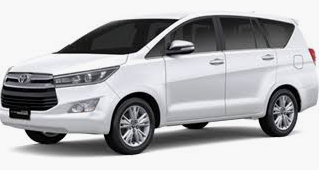car: (1, 10, 320, 159)
